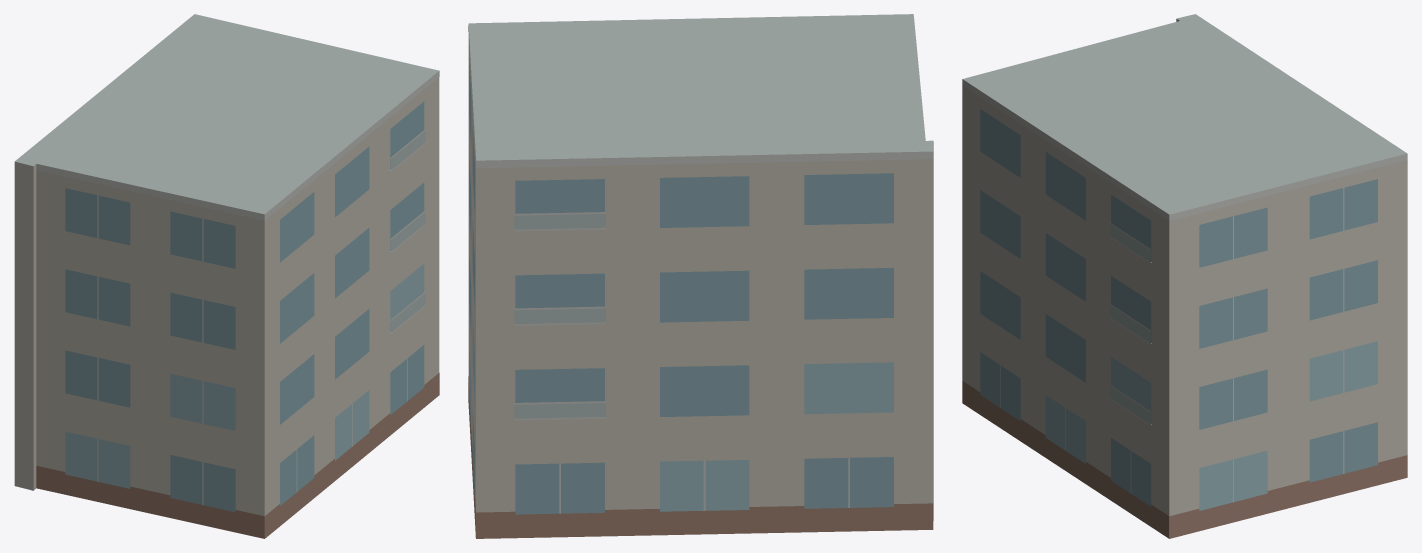
Rendered from survey-upis-32625080.glb.
3 views of the same model, side by side, from view 1: azimuth 30°, elevation 25°; view 2: azimuth 150°, elevation 25°; view 3: azimuth 270°, elevation 25° (orthographic). The views are drawn at different scales.
Parts seen in each view (by area): view 1: survey-upis-32625080.tmp; view 2: survey-upis-32625080.tmp; view 3: survey-upis-32625080.tmp.
Boxes of the visible parts, x1=… form: survey-upis-32625080.tmp: x1=14, y1=14, x2=439, y2=538; survey-upis-32625080.tmp: x1=468, y1=14, x2=933, y2=538; survey-upis-32625080.tmp: x1=962, y1=14, x2=1407, y2=538.
Size of the model in its own units: 16.34 by 12.3 by 15.31.
